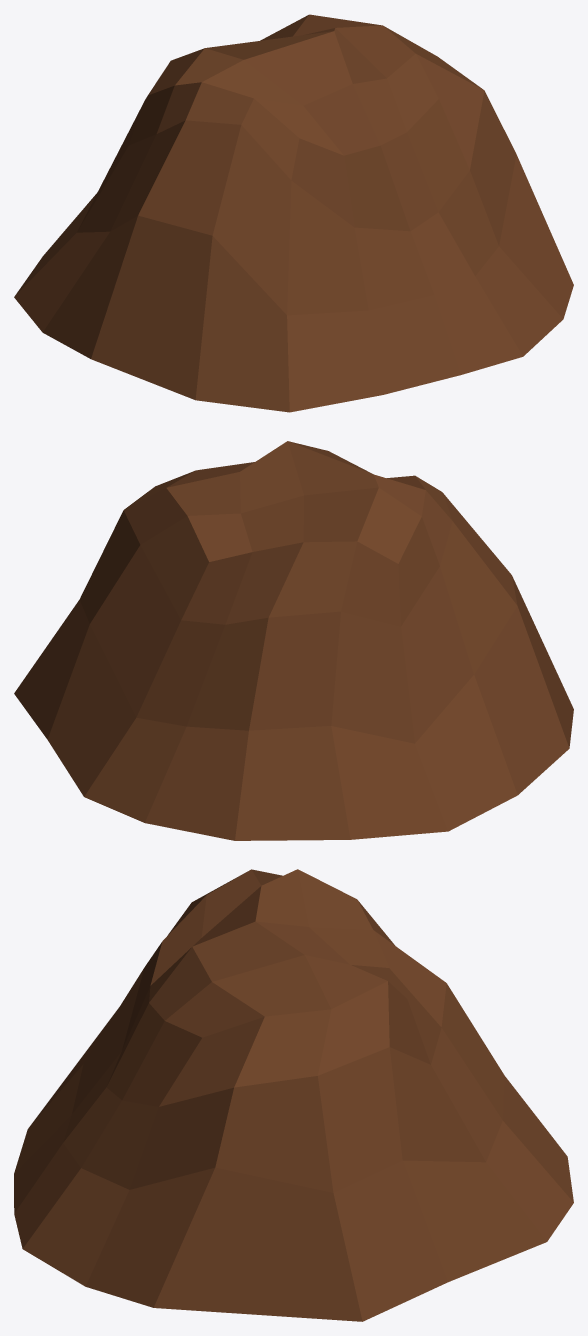
Rendered from mont1.gltf.
3 renders of one model, top to bottom at view 1: azimuth 30°, elevation 25°; view 2: azimuth 150°, elevation 25°; view 3: azimuth 270°, elevation 25°, orthographic. The views are drawn at different scales.
Visible parts, largest first — view 1: Cube.011; view 2: Cube.011; view 3: Cube.011.
Boxes of the visible parts, x1,y1,x2,y2 form: Cube.011: [14, 14, 573, 412]; Cube.011: [14, 441, 573, 840]; Cube.011: [14, 869, 573, 1321].
Size of the model in its own units: 7.76 by 4.13 by 7.3.
